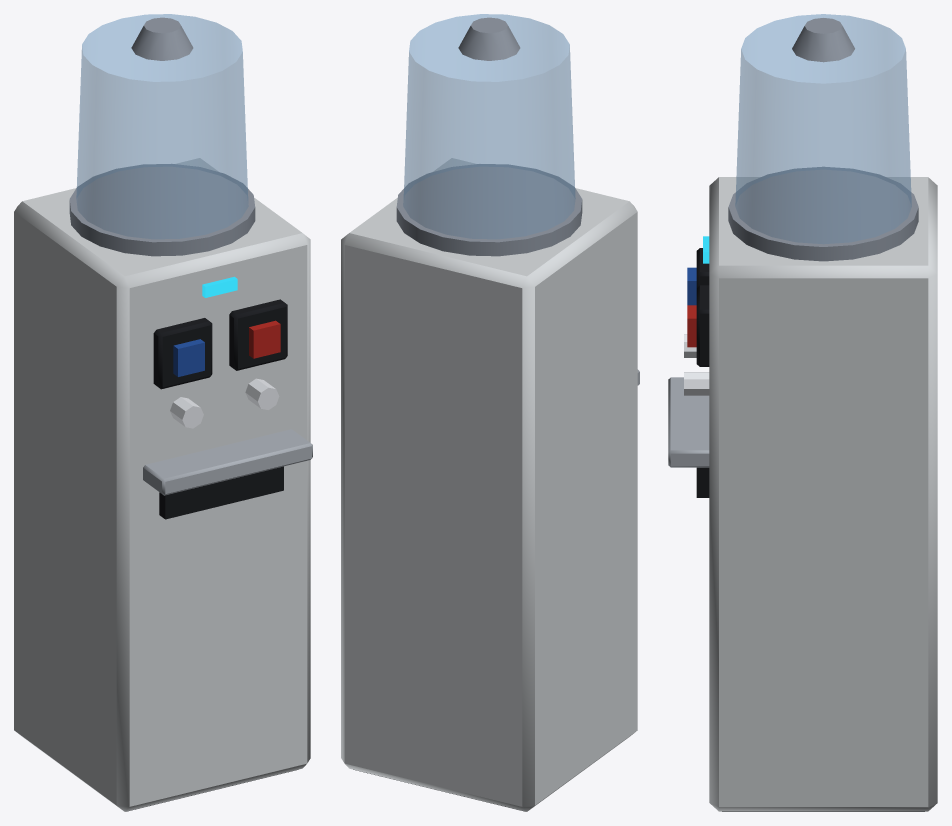
The model's file is fountain_water_cooler_tower.glb.
3 views of the same model, side by side, from view 1: azimuth 30°, elevation 25°; view 2: azimuth 150°, elevation 25°; view 3: azimuth 270°, elevation 25° (orthographic).
Parts seen in each view (by area): view 1: fountain_water_cooler_tower; view 2: fountain_water_cooler_tower; view 3: fountain_water_cooler_tower.
Part boxes in pixels (x1,y1,x2,y2): fountain_water_cooler_tower: [14, 14, 312, 811]; fountain_water_cooler_tower: [341, 14, 639, 811]; fountain_water_cooler_tower: [668, 14, 937, 811].
Size of the model in its own units: 0.36 by 1.29 by 0.425.
